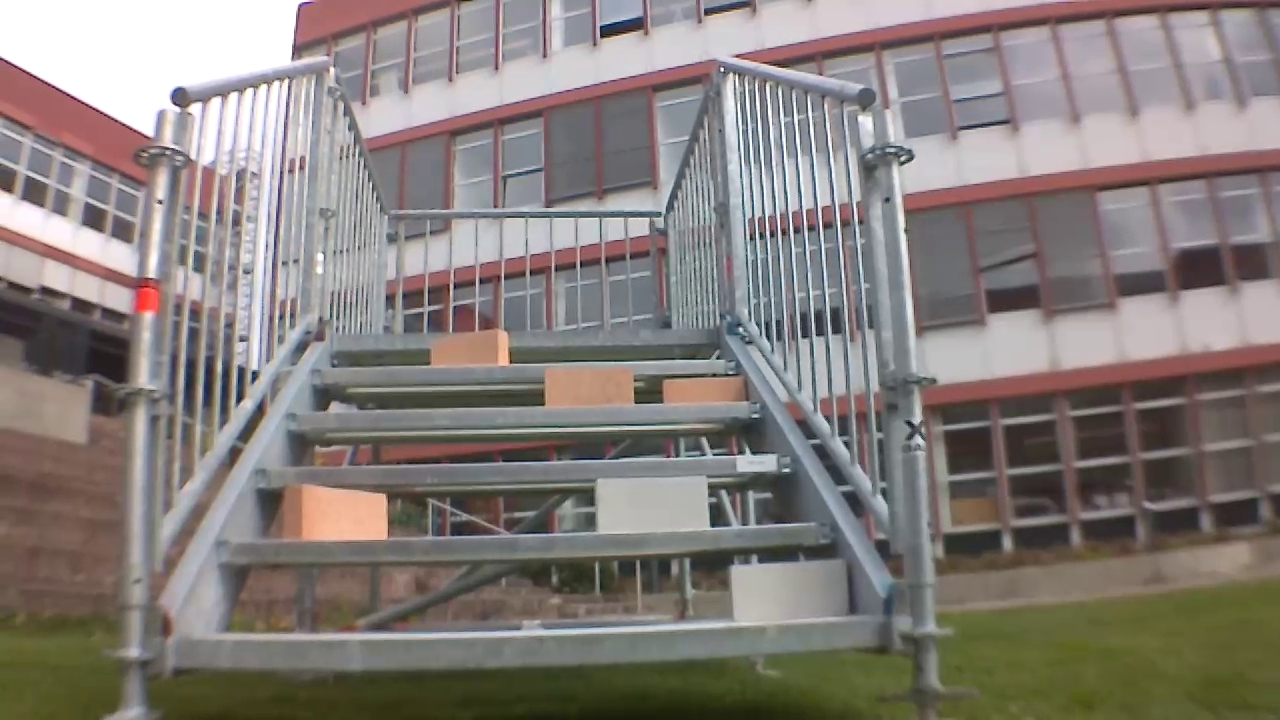brick: (731, 562, 849, 619), (596, 477, 708, 531), (283, 484, 386, 539), (545, 366, 632, 405), (430, 329, 508, 365), (664, 377, 745, 403)
edge: (172, 616, 883, 670), (217, 522, 838, 562), (252, 452, 793, 486), (287, 401, 766, 430), (331, 328, 720, 351), (309, 361, 735, 382)
stairs: (113, 56, 971, 720)
steps: (168, 324, 887, 673)
